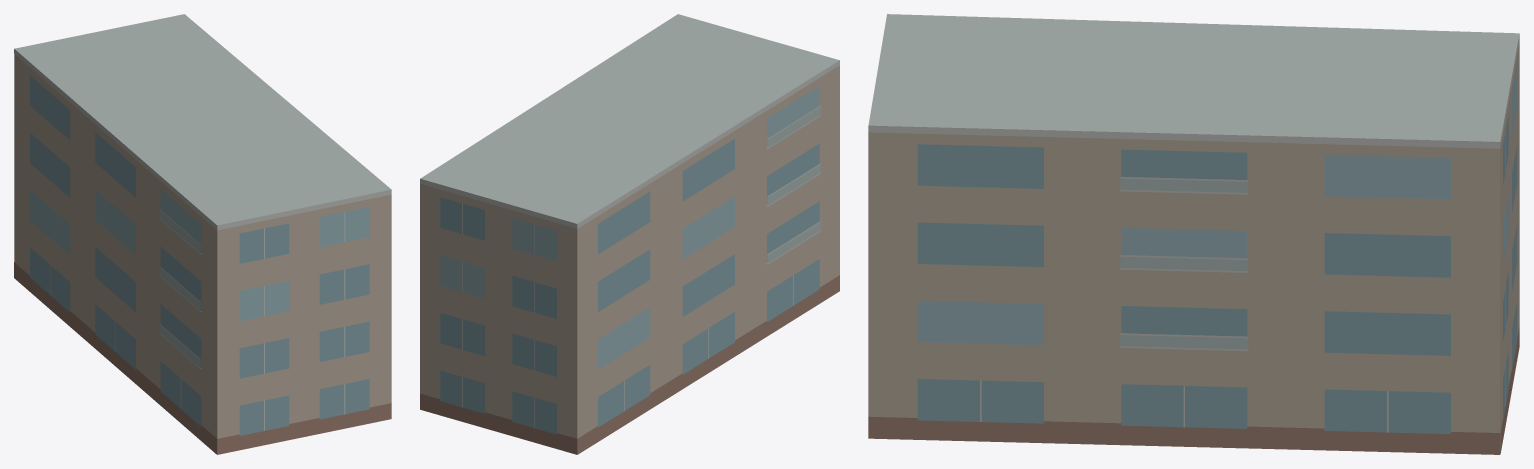
File: survey-upis-32871932.glb
3 renders of one model, left to right at view 1: azimuth 30°, elevation 25°; view 2: azimuth 150°, elevation 25°; view 3: azimuth 270°, elevation 25°, orthographic. The views are drawn at different scales.
Visible parts, largest first — view 1: survey-upis-32871932.tmp; view 2: survey-upis-32871932.tmp; view 3: survey-upis-32871932.tmp.
Part boxes in pixels (box(x1,y1,x2,y2)): survey-upis-32871932.tmp: box(14, 14, 391, 454); survey-upis-32871932.tmp: box(420, 14, 839, 454); survey-upis-32871932.tmp: box(868, 14, 1519, 454).
Size of the model in its own units: 9.92 by 11.3 by 21.32.
